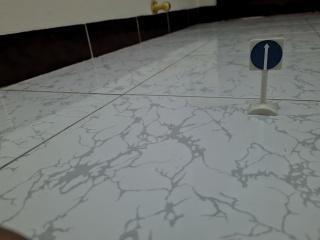straight: (246, 35, 286, 73)
